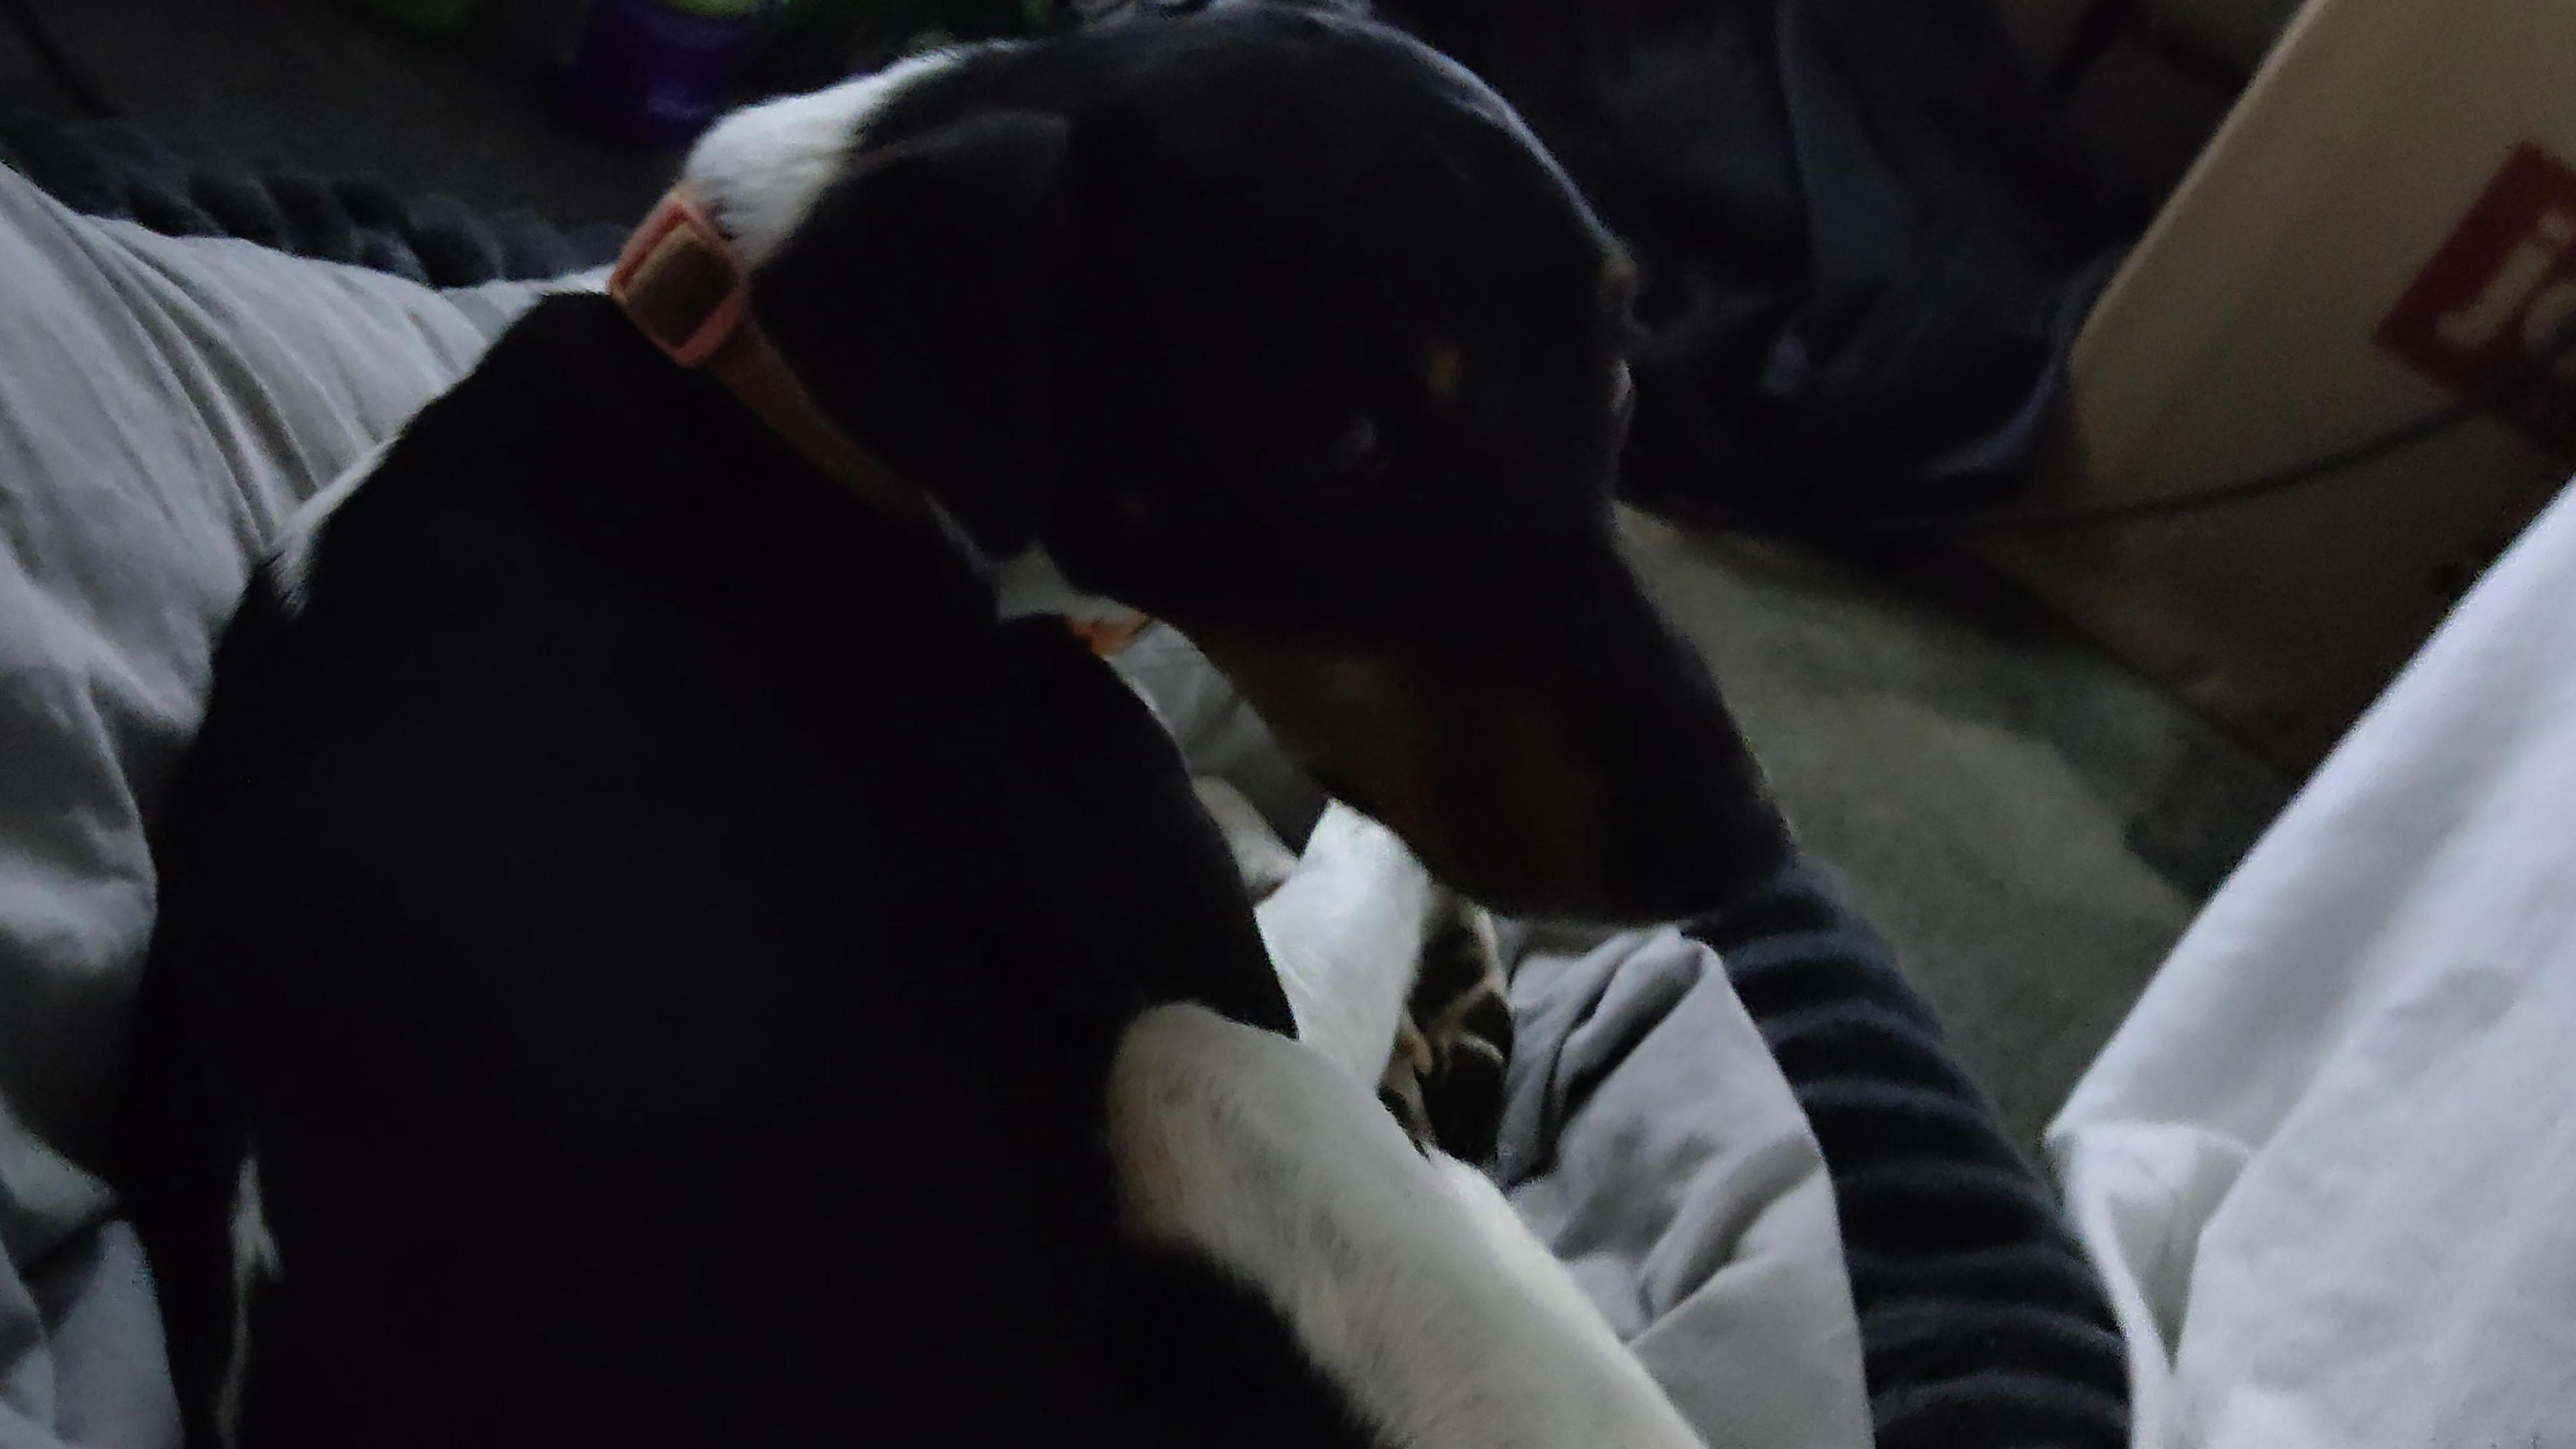Dog: (60, 0, 1851, 1449)
